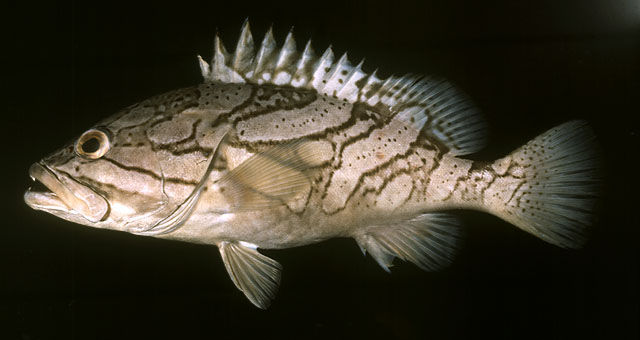fish: (23, 15, 602, 312)
